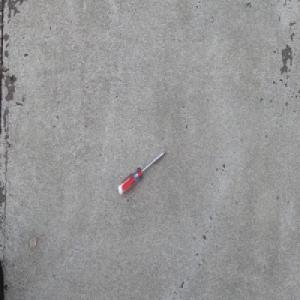Screwdriver: (117, 150, 167, 195)
